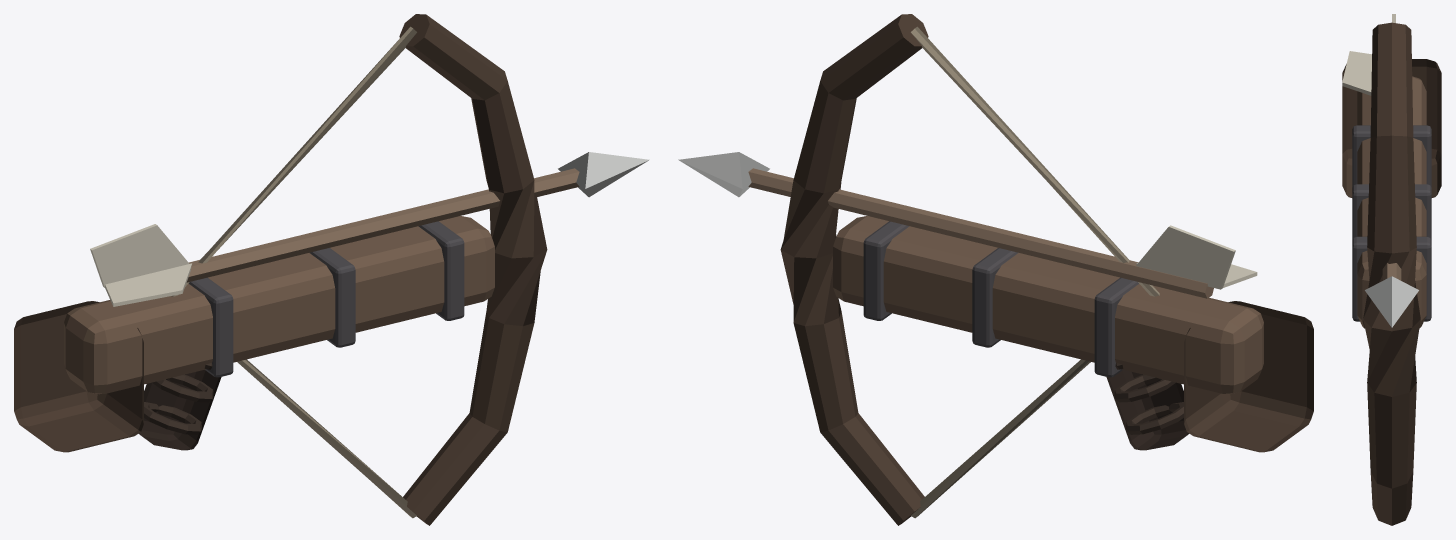
The model's file is crossbow.glb.
3 renders of one model, left to right at view 1: azimuth 30°, elevation 25°; view 2: azimuth 150°, elevation 25°; view 3: azimuth 270°, elevation 25°, orthographic.
Parts seen in each view (by area): view 1: Crossbow wooden stock, Crossbow curved bow limbs, Crossbow rear stock, Loaded crossbow bolt, Taut crossbow string, Loaded bolt ivory fletching 1, Crossbow pistol grip, Crossbow iron stock band.001, Crossbow iron stock band.002, Crossbow iron stock band, Loaded bolt ivory fletching 2, Crossbow bolt point (+2 smaller); view 2: Crossbow wooden stock, Crossbow curved bow limbs, Crossbow rear stock, Loaded crossbow bolt, Taut crossbow string, Loaded bolt ivory fletching 1, Crossbow pistol grip, Crossbow iron stock band.001, Crossbow iron stock band.002, Crossbow iron stock band, Crossbow bolt point, Woodland equipment worn binding (+1 smaller); view 3: Crossbow curved bow limbs, Crossbow wooden stock, Crossbow rear stock, Crossbow bolt point, Crossbow iron stock band.002, Crossbow iron stock band, Loaded bolt ivory fletching 2, Crossbow iron stock band.001, Loaded crossbow bolt.
Boxes of the visible parts, x1,y1,x2,y2 form: Crossbow wooden stock: [64, 216, 494, 394]; Crossbow curved bow limbs: [399, 14, 547, 525]; Crossbow rear stock: [14, 301, 143, 452]; Loaded crossbow bolt: [186, 168, 579, 282]; Taut crossbow string: [171, 26, 416, 518]; Loaded bolt ivory fletching 1: [90, 224, 189, 287]; Crossbow pistol grip: [138, 370, 221, 450]; Crossbow iron stock band.001: [309, 248, 355, 347]; Crossbow iron stock band.002: [418, 221, 464, 320]; Crossbow iron stock band: [188, 277, 233, 377]; Loaded bolt ivory fletching 2: [105, 263, 192, 306]; Crossbow bolt point: [558, 152, 649, 197]; Crossbow wooden stock: [833, 216, 1263, 394]; Crossbow curved bow limbs: [780, 14, 928, 525]; Crossbow rear stock: [1184, 301, 1313, 452]; Loaded crossbow bolt: [748, 168, 1213, 298]; Taut crossbow string: [911, 26, 1159, 518]; Loaded bolt ivory fletching 1: [1136, 225, 1235, 289]; Crossbow pistol grip: [1106, 370, 1189, 450]; Crossbow iron stock band.001: [972, 248, 1018, 347]; Crossbow iron stock band.002: [863, 221, 909, 320]; Crossbow iron stock band: [1094, 277, 1138, 377]; Crossbow bolt point: [678, 152, 769, 197]; Woodland equipment worn binding: [1126, 402, 1183, 434]; Crossbow curved bow limbs: [1363, 22, 1420, 525]; Crossbow wooden stock: [1357, 76, 1426, 328]; Crossbow rear stock: [1342, 59, 1441, 197]; Crossbow bolt point: [1365, 276, 1418, 327]; Crossbow iron stock band.002: [1352, 236, 1431, 321]; Crossbow iron stock band: [1352, 125, 1431, 187]; Loaded bolt ivory fletching 2: [1342, 51, 1371, 95]; Crossbow iron stock band.001: [1352, 184, 1431, 239]; Loaded crossbow bolt: [1382, 263, 1401, 280].
Bounding box in the file's own units: 1.41 × 1.12 × 0.2.
